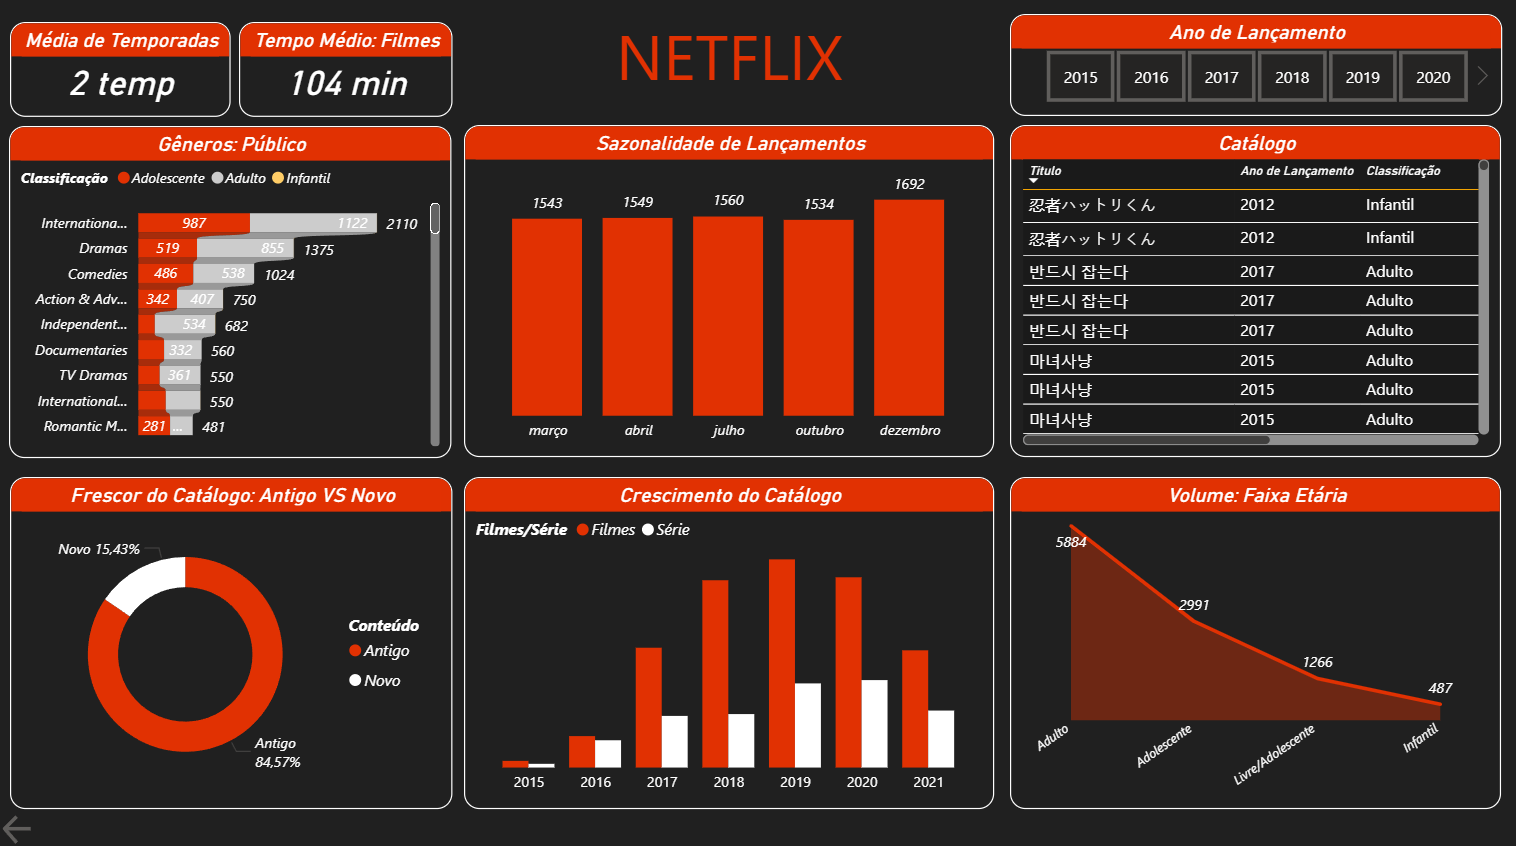

The dashboard page shown, as its layout file describes it:
{"tool":"powerbi","page":{"name":"Análise de Conteúdo","canvas":[1280,720],"ordinal":1},"visuals":[{"type":"barChart","title":"Gêneros: Público","fields":{"Category":["Netflix Dados.Categoria"],"Series":["Netflix Dados.Classificação"],"Y":["CountNonNull(Netflix Dados.Titulo)"]},"box":[9,110.1,373.4,280.3],"z":0},{"type":"donutChart","title":"Frescor do Catálogo: Antigo VS Novo","fields":{"Category":["Netflix Dados.Conteúdo"],"Y":["Netflix Dados.TotalProducao"]},"box":[9.7,406.6,373.5,280.1],"z":1000},{"type":"columnChart","title":"Sazonalidade de Lançamentos","fields":{"Y":["Netflix Dados.TotalProducao"],"Category":["Netflix Dados.Data_adicionada.Variation.Hierarquia de datas.Mês"]},"box":[392.9,109.9,447.4,280.1],"z":2000},{"type":"lineClusteredColumnComboChart","title":"Crescimento do Catálogo","fields":{"Category":["Netflix Dados.Data_adicionada.Variation.Hierarquia de datas.Ano","Netflix Dados.Data_adicionada.Variation.Hierarquia de datas.Mês"],"Y":["CountNonNull(Netflix Dados.Titulo)"],"Series":["Netflix Dados.Filmes/Série"]},"box":[393.1,406.6,446.9,280.3],"z":3000},{"type":"tableEx","title":"Catálogo","fields":{"Values":["Netflix Dados.Titulo","Netflix Dados.Ano de Lançamento","Netflix Dados.Classificação","Netflix Dados.Categoria","Netflix Dados.Filmes/Série","Netflix Dados.DuracaoFormatada"]},"box":[853,109.9,414.3,280.1],"z":4000},{"type":"areaChart","title":"Volume: Faixa Etária","fields":{"Category":["Netflix Dados.Classificação"],"Y":["CountNonNull(Netflix Dados.Filmes/Série)"]},"box":[853,406.6,414.3,280.1],"z":5000},{"type":"card","title":"Média de Temporadas","fields":{"Values":["Netflix Dados.MediaSeries"]},"box":[9.9,22.4,186.3,79.7],"z":6000},{"type":"card","title":"Tempo Médio: Filmes","fields":{"Values":["Netflix Dados.MediaFilmes"]},"box":[203.3,22.4,180,79.7],"z":7000},{"type":"textbox","box":[393.1,8.1,447.8,102.1],"z":8000},{"type":"slicer","title":"Ano de Lançamento","fields":{"Values":["Netflix Dados.Ano de Lançamento"]},"box":[853.4,16.1,414.6,86],"z":9000},{"type":"actionButton","box":[0,686.9,34.9,33.1],"z":10000}]}

Visuals, with their boxes in screenshot pixels (x1, y1, x2, y2), scaled from the page's 1280x720 canvas onto the 1516x846 screenshot:
"Gêneros: Público" barChart: bbox=[11, 129, 453, 459]
"Frescor do Catálogo: Antigo VS Novo" donutChart: bbox=[11, 478, 454, 807]
"Sazonalidade de Lançamentos" columnChart: bbox=[465, 129, 995, 458]
"Crescimento do Catálogo" lineClusteredColumnComboChart: bbox=[466, 478, 995, 807]
"Catálogo" tableEx: bbox=[1010, 129, 1501, 458]
"Volume: Faixa Etária" areaChart: bbox=[1010, 478, 1501, 807]
"Média de Temporadas" card: bbox=[12, 26, 232, 120]
"Tempo Médio: Filmes" card: bbox=[241, 26, 454, 120]
textbox: bbox=[466, 10, 996, 129]
"Ano de Lançamento" slicer: bbox=[1011, 19, 1502, 120]
actionButton: bbox=[0, 807, 41, 845]
